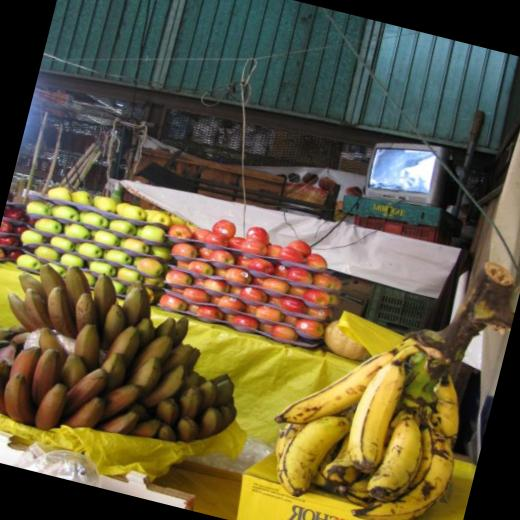Banana: (0, 260, 265, 478), (257, 308, 485, 520)
